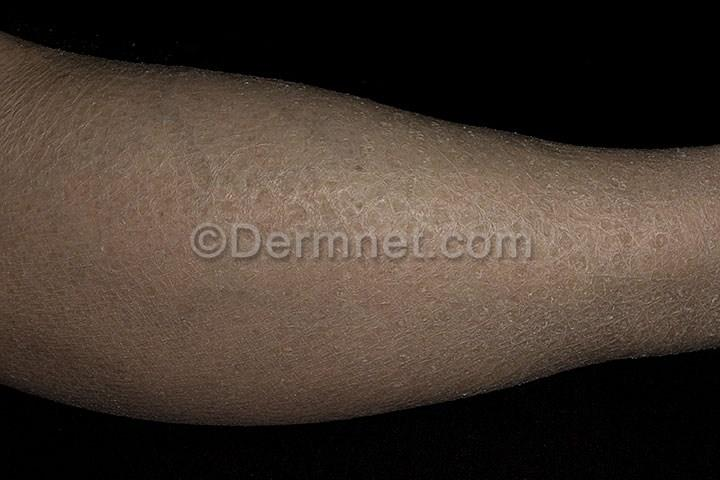liquenificacion 2: (0, 28, 719, 428)
xerosis 3: (0, 31, 719, 429)
